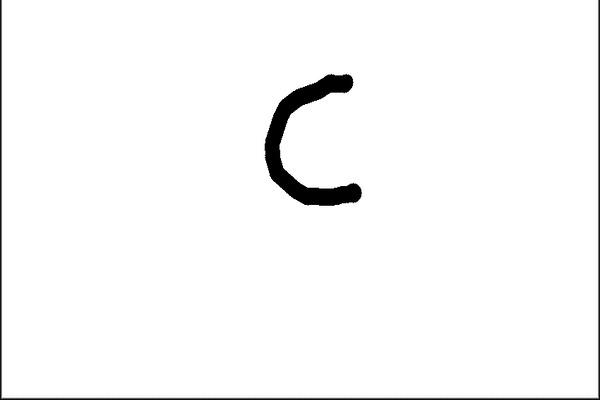C: (260, 66, 368, 208)
